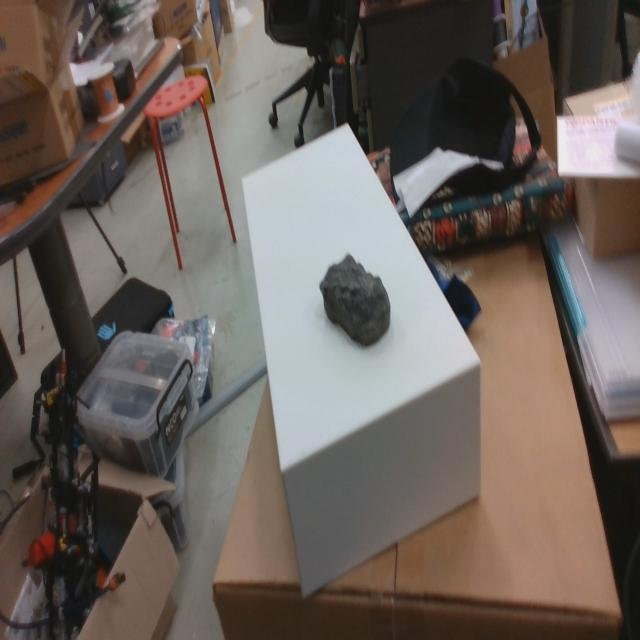stone: (320, 254, 390, 347)
